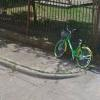Bicycle: (48, 20, 94, 73)
